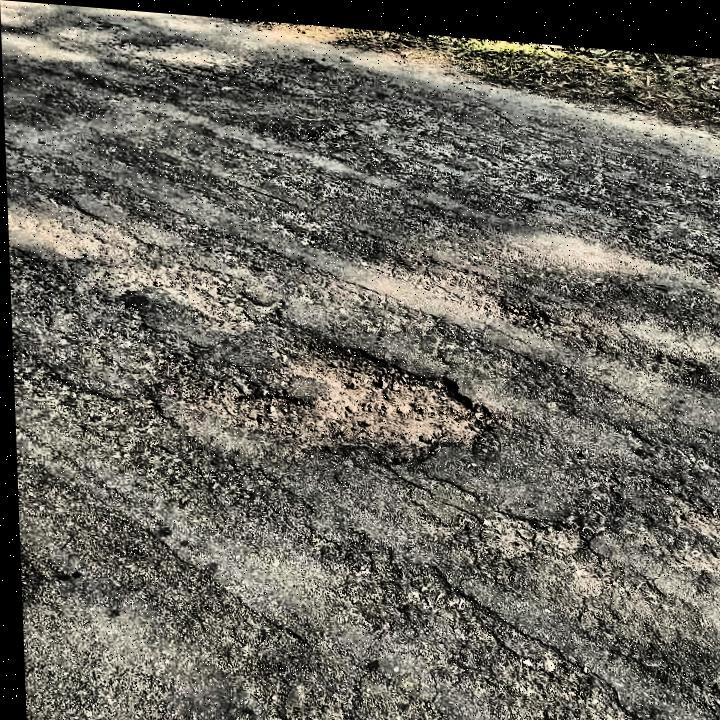pothole: (211, 323, 492, 465)
